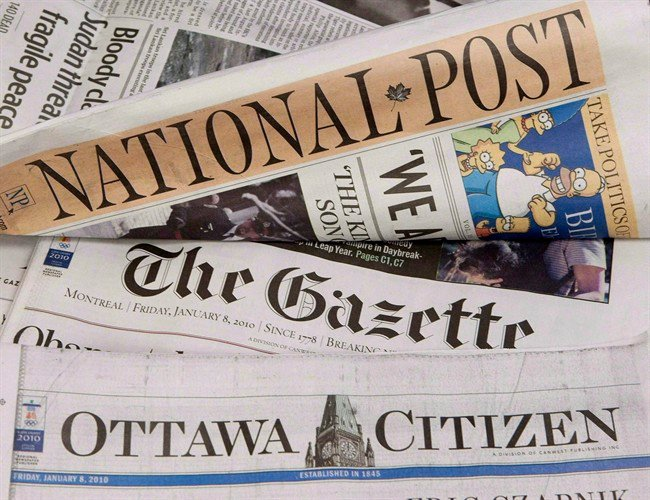news_paper: (1, 1, 650, 320), (5, 187, 650, 406), (7, 338, 650, 498), (1, 1, 417, 163)
